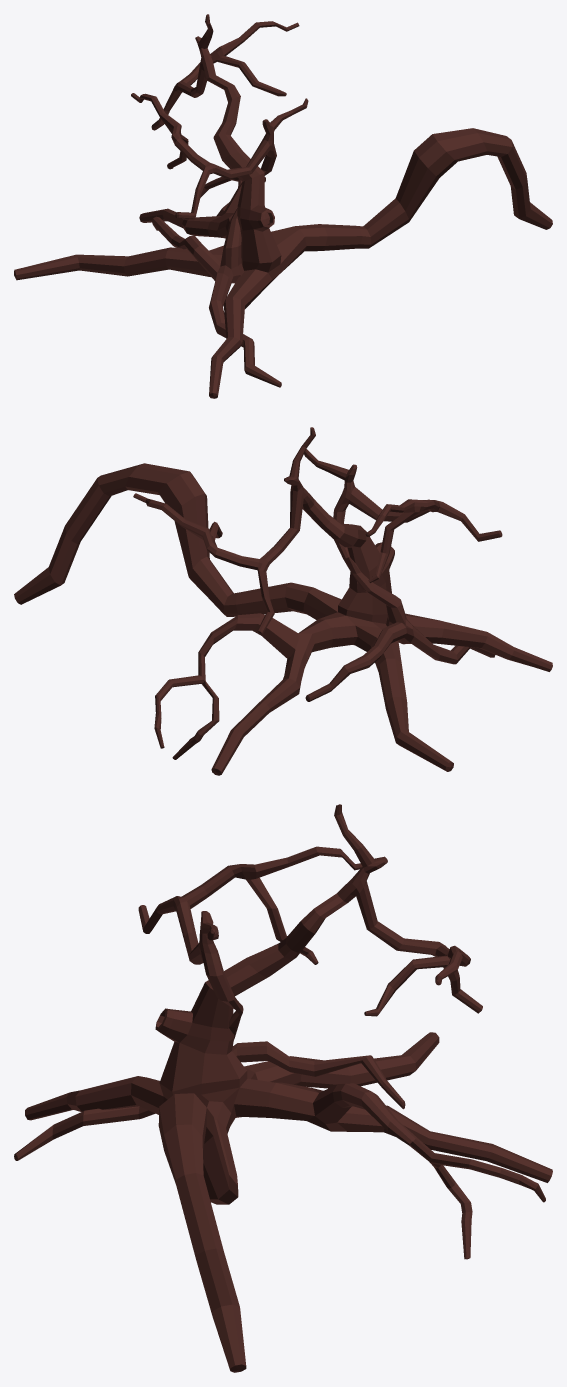
The model's file is Sacred_Tree_Main.fbx.
The picture shows the model from 3 angles, top to bottom: view 1: azimuth 30°, elevation 25°; view 2: azimuth 150°, elevation 25°; view 3: azimuth 270°, elevation 25°; orthographic projection. The views are drawn at different scales.
Visible parts, largest first — view 1: Sacred_Tree; view 2: Sacred_Tree; view 3: Sacred_Tree.
Boxes of the visible parts, bbox=[...] form: Sacred_Tree: bbox=[14, 14, 552, 398]; Sacred_Tree: bbox=[14, 427, 552, 775]; Sacred_Tree: bbox=[14, 804, 552, 1372].
Size of the model in its own units: 8975 by 5287 by 6427.
